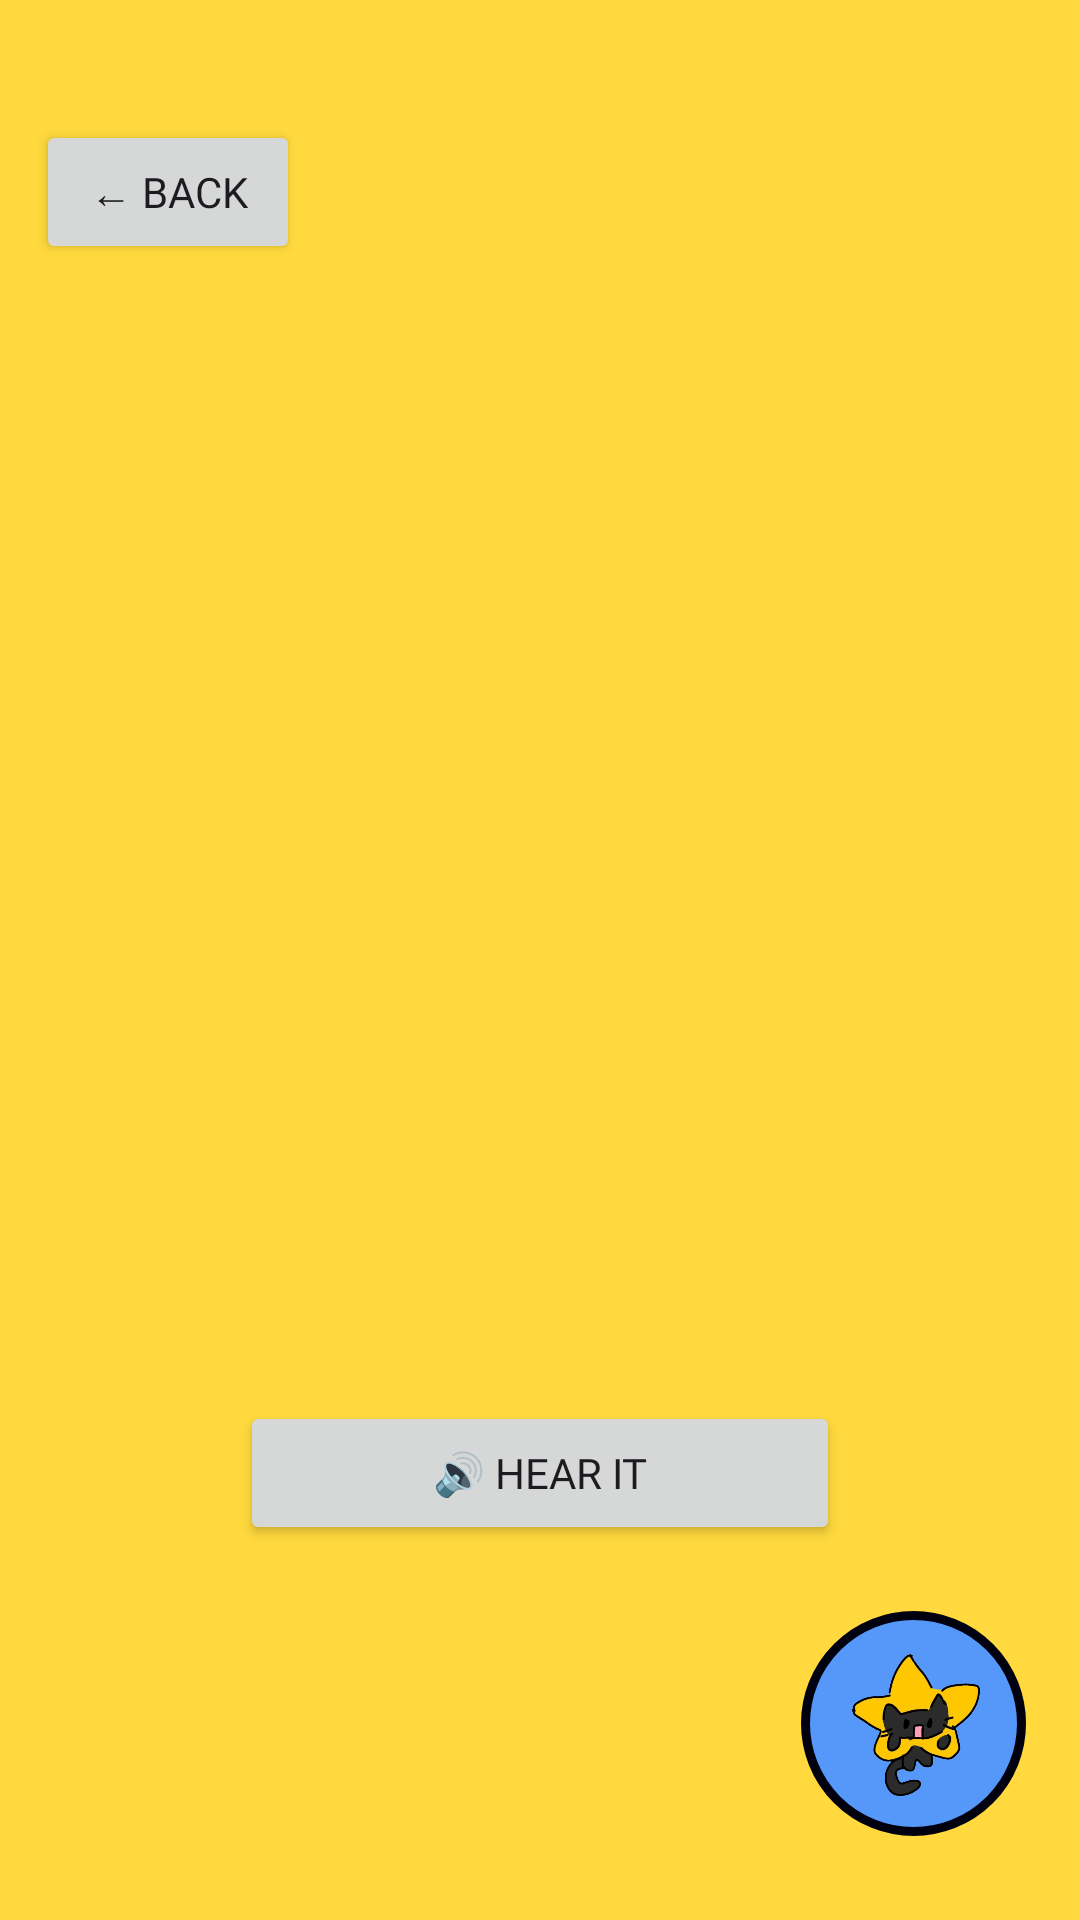

Screen size 1080px x 1920px. Icon name, then its box in pixels as bbox=(x1, y1, x2, y2):
star: bbox=(801, 1611, 1026, 1836)
